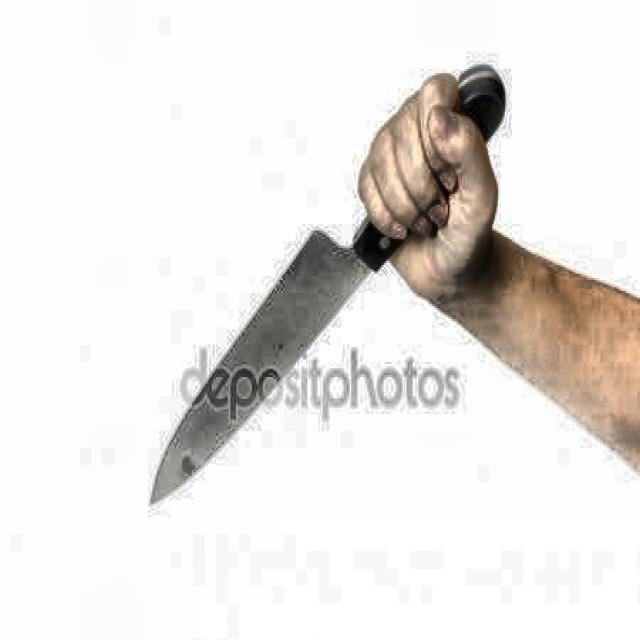knife: (149, 67, 506, 502)
